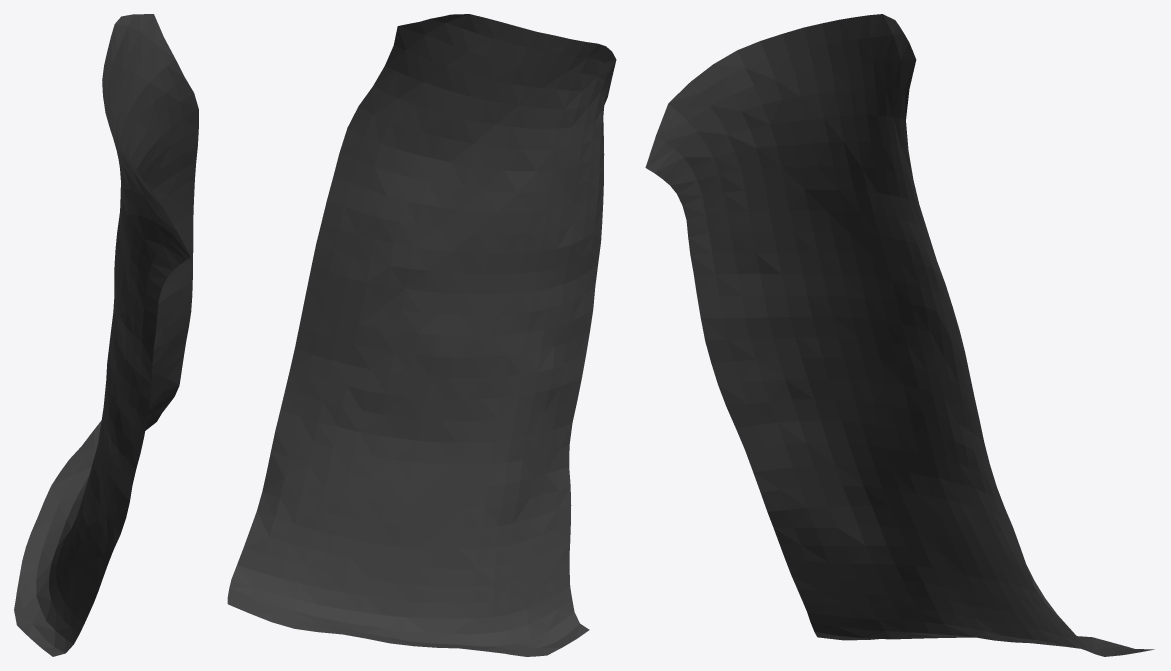
File: eq_dist_limb_Intersesamoidean_Lig.glb
The picture shows the model from 3 angles, left to right: view 1: azimuth 30°, elevation 25°; view 2: azimuth 150°, elevation 25°; view 3: azimuth 270°, elevation 25°; orthographic projection. The views are drawn at different scales.
Visible parts, largest first — view 1: eq_dist_limb_Intersesamoidean_Lig; view 2: eq_dist_limb_Intersesamoidean_Lig; view 3: eq_dist_limb_Intersesamoidean_Lig.
Boxes of the visible parts, x1,y1,x2,y2 form: eq_dist_limb_Intersesamoidean_Lig: (14, 14, 198, 656); eq_dist_limb_Intersesamoidean_Lig: (227, 14, 616, 656); eq_dist_limb_Intersesamoidean_Lig: (645, 14, 1154, 656).
Bounding box in the file's own units: 0.00286 × 0.00729 × 0.00504.
1 material, 1 textured.
